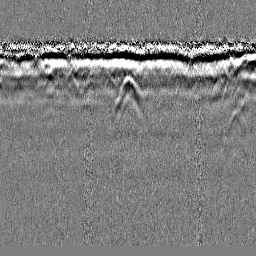cavity: (113, 74, 143, 111)
